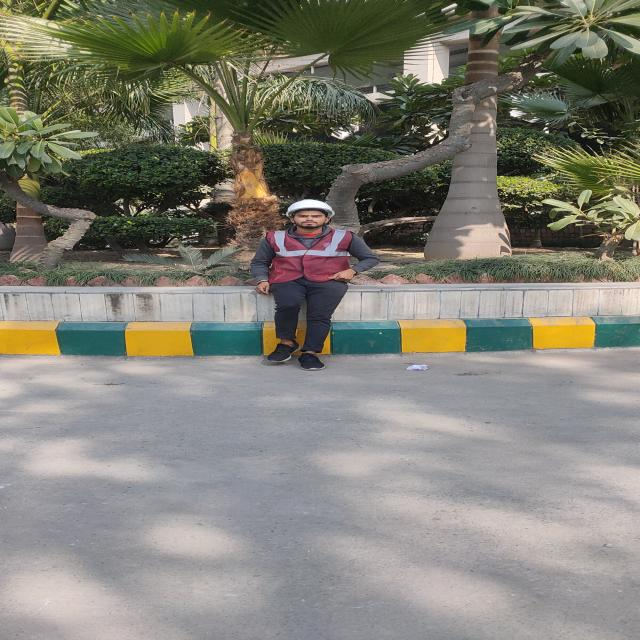safe: (249, 198, 380, 371)
